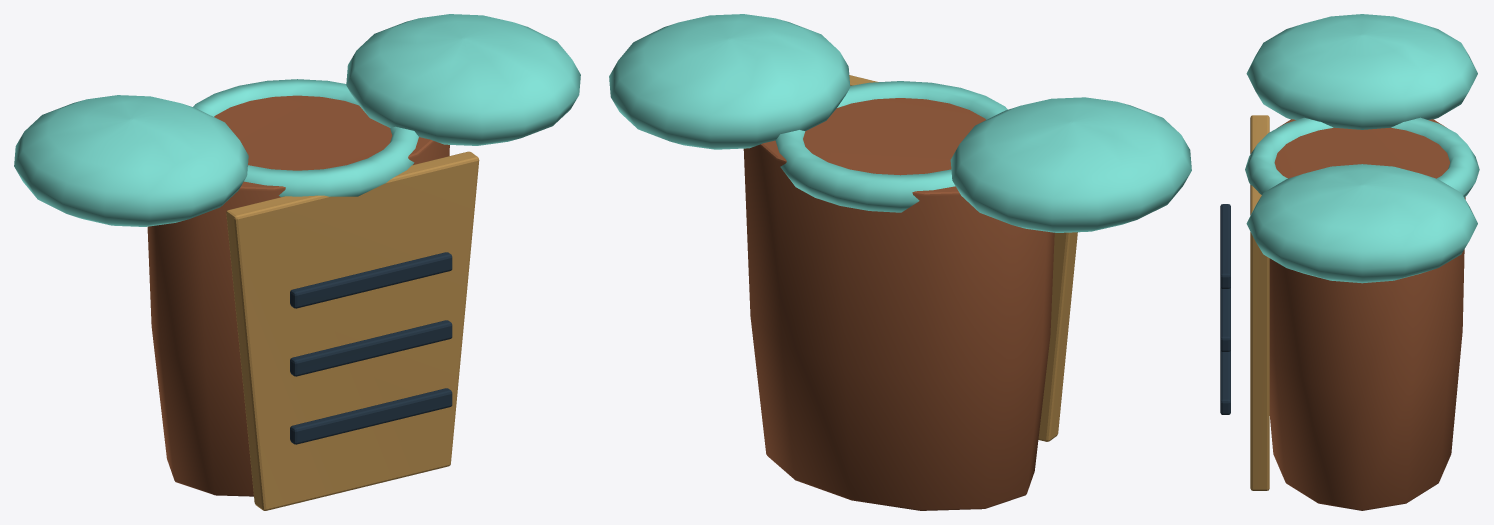
The model's file is item_053.glb.
3 renders of one model, left to right at view 1: azimuth 30°, elevation 25°; view 2: azimuth 150°, elevation 25°; view 3: azimuth 270°, elevation 25°, orthographic. The views are drawn at different scales.
Visible parts, largest first — view 1: Item_053_sunshade_breastplate; view 2: Item_053_sunshade_breastplate; view 3: Item_053_sunshade_breastplate.
Boxes of the visible parts, box(x1,y1,x2,y2) form: Item_053_sunshade_breastplate: box(14, 14, 580, 510); Item_053_sunshade_breastplate: box(609, 14, 1191, 510); Item_053_sunshade_breastplate: box(1220, 14, 1479, 510).
Bounding box in the file's own units: 0.74 × 0.495 × 0.336.
